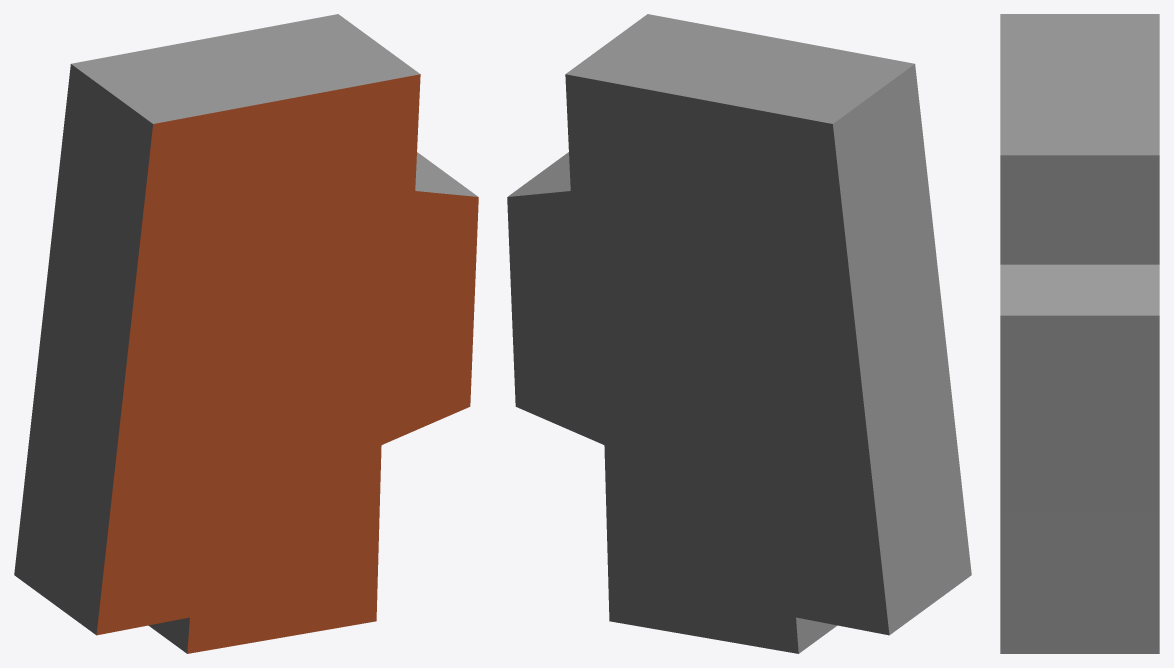
File: construction_1738_assumed_A_Casa_h6m.obj
3 renders of one model, left to right at view 1: azimuth 30°, elevation 25°; view 2: azimuth 150°, elevation 25°; view 3: azimuth 270°, elevation 25°, orthographic. The views are drawn at different scales.
Visible parts, largest first — view 1: construction_1738_assumed_A_Casa; view 2: construction_1738_assumed_A_Casa; view 3: construction_1738_assumed_A_Casa.
Part boxes in pixels (left/top/right/bottom): construction_1738_assumed_A_Casa: left=14, top=14, right=478, bottom=653; construction_1738_assumed_A_Casa: left=507, top=14, right=971, bottom=653; construction_1738_assumed_A_Casa: left=1000, top=14, right=1159, bottom=653.
Bounding box in the file's own units: 16.09 × 22.19 × 6.
